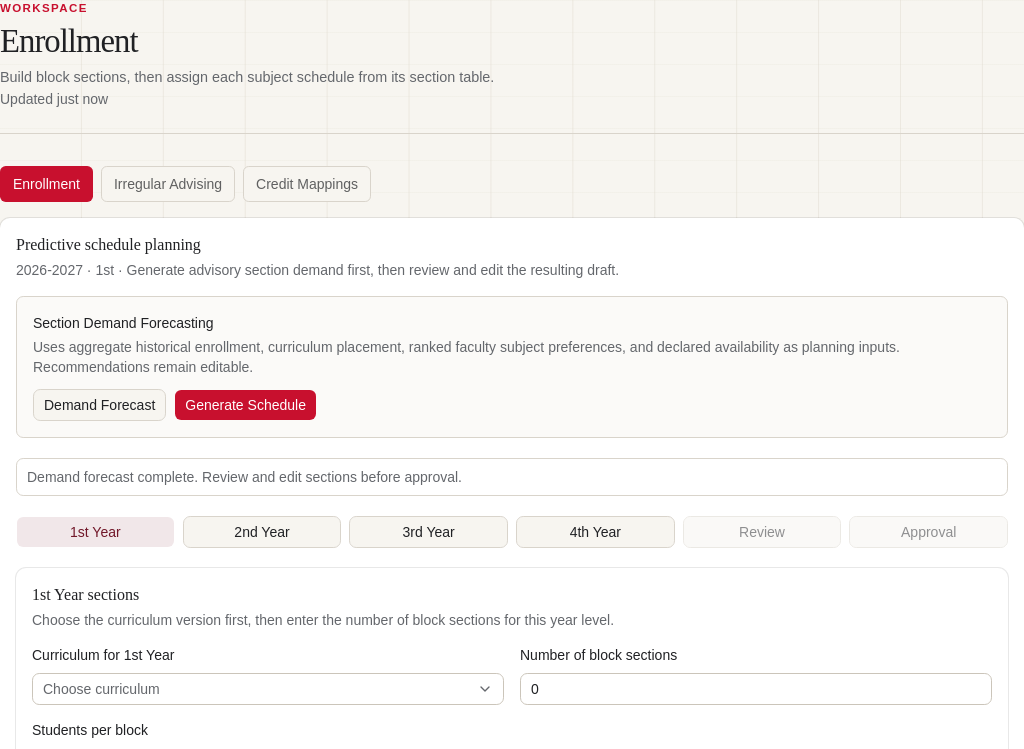
Test: ProgramChairEnrollmentWorkspace › explains a generated section with no matching forecast as manually planned
Click the button "Demand Forecast": (100, 405) [33,389,166,421]
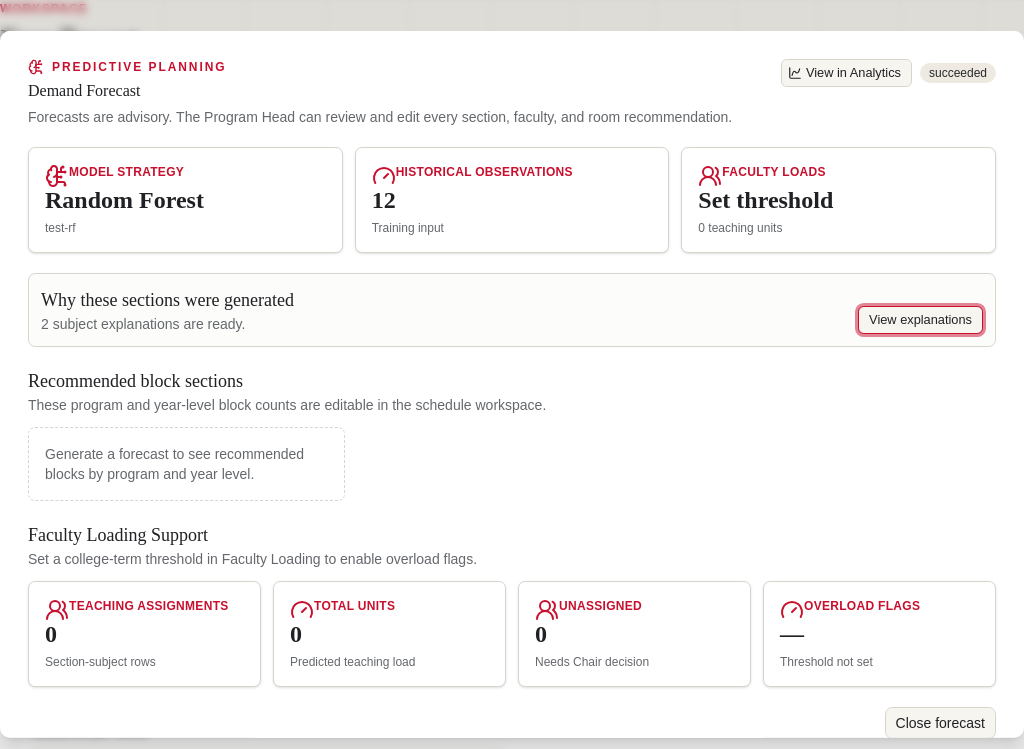
Click the button "View explanations": (921, 320) [858,306,983,334]
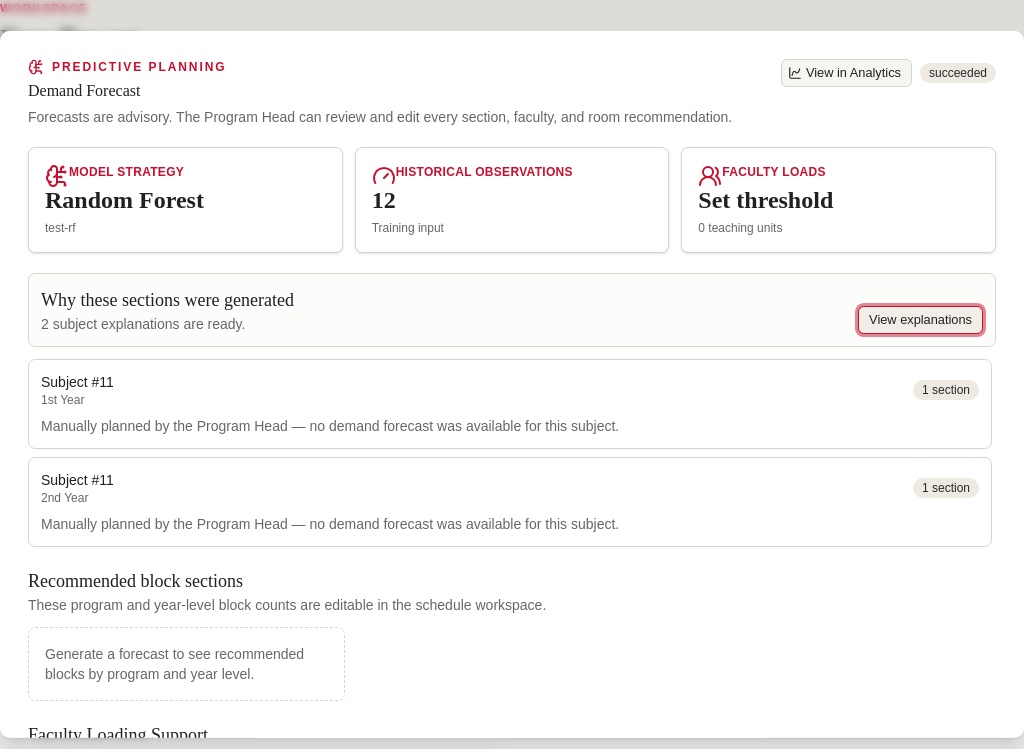
Check: the element "Why these sections were generated" shows "Manually planned by the Program Head — no demand forecast was available for this subject.", box [41,418,619,434]
